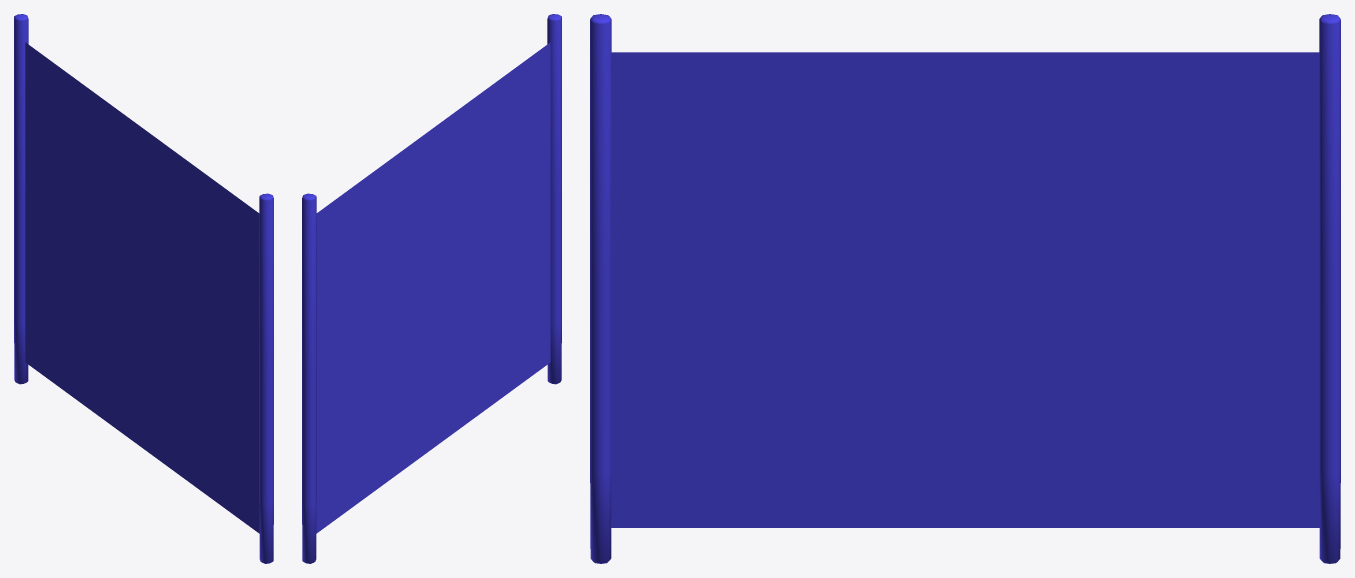
The model's file is Wirefence_low.fbx.
3 renders of one model, left to right at view 1: azimuth 30°, elevation 25°; view 2: azimuth 150°, elevation 25°; view 3: azimuth 270°, elevation 25°, orthographic. The views are drawn at different scales.
Visible parts, largest first — view 1: Fence_low, Poles_low; view 2: Fence_low, Poles_low; view 3: Fence_low, Poles_low.
Boxes of the visible parts, x1,y1,x2,y2 form: Fence_low: [25, 42, 259, 533]; Poles_low: [14, 14, 273, 563]; Fence_low: [316, 42, 550, 533]; Poles_low: [302, 14, 561, 563]; Fence_low: [611, 52, 1319, 527]; Poles_low: [590, 14, 1340, 563].
Size of the model in its own units: 8.34 by 231 by 289.
